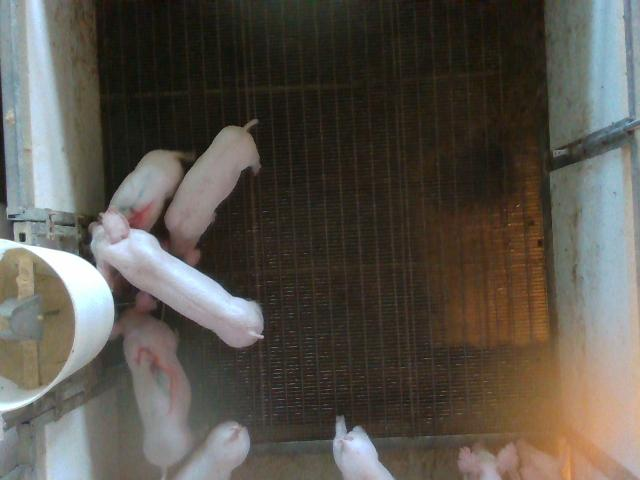pig-3: (112, 291, 194, 478)
pig-4: (110, 150, 191, 231)
